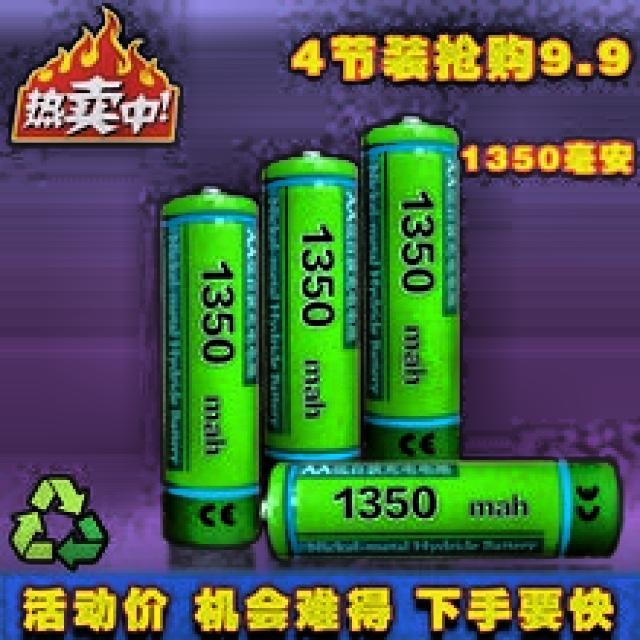Non-Valuable Waste - Batteries: (162, 189, 259, 547), (265, 462, 621, 556), (362, 118, 459, 459), (264, 151, 360, 459)
